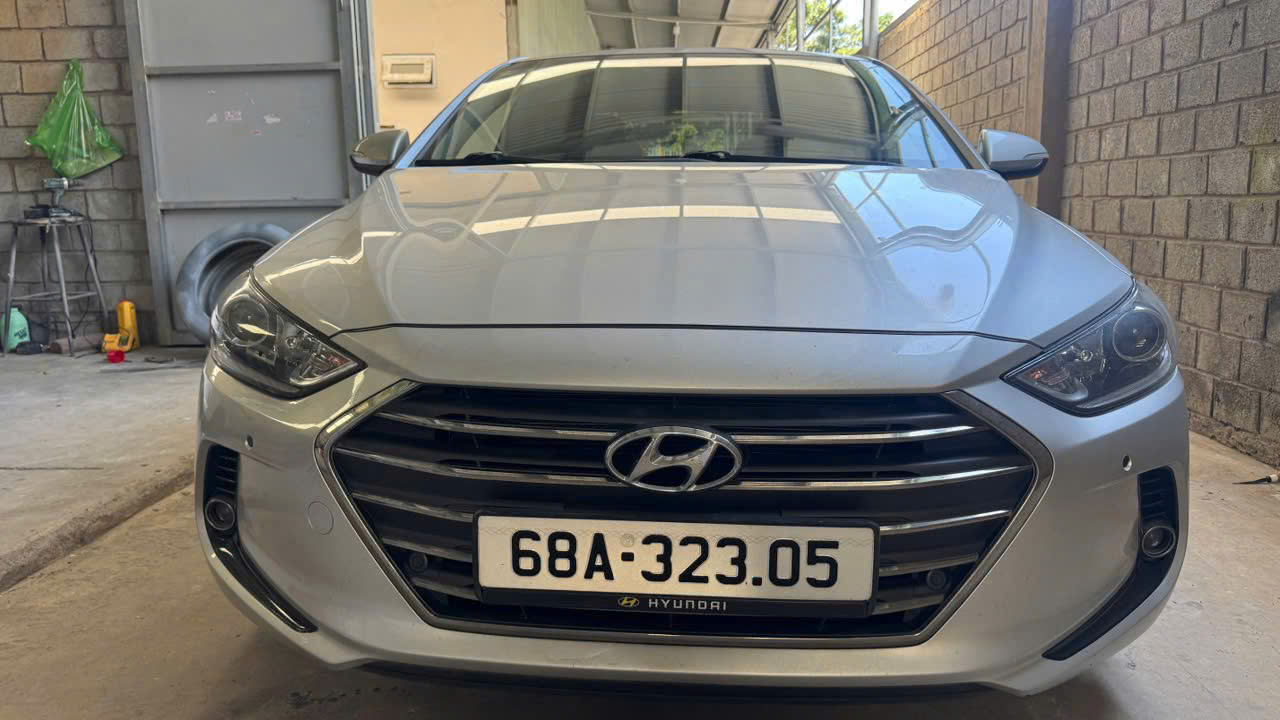Bien-so: (479, 517, 875, 601)
